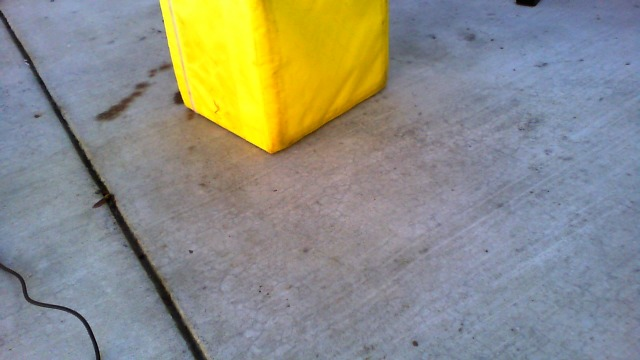cube: (156, 1, 391, 156)
